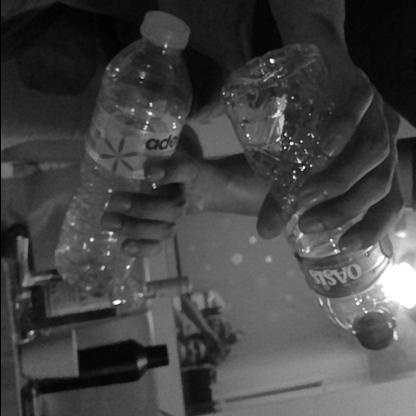plastic_bottles: (214, 41, 400, 351), (51, 13, 191, 298)
